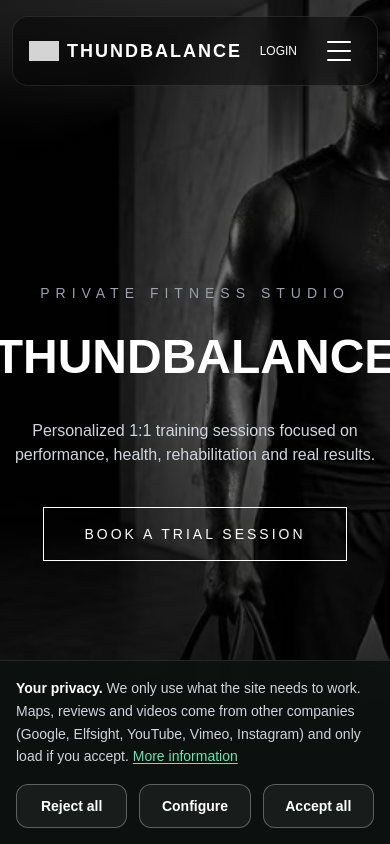
Scenario: mobile menu › the header keeps Login and the hamburger; Register moves into the open menu
This screenshot has width=390, height=844.
Click the button named "open menu" at (339, 51), box [317, 29, 361, 73]
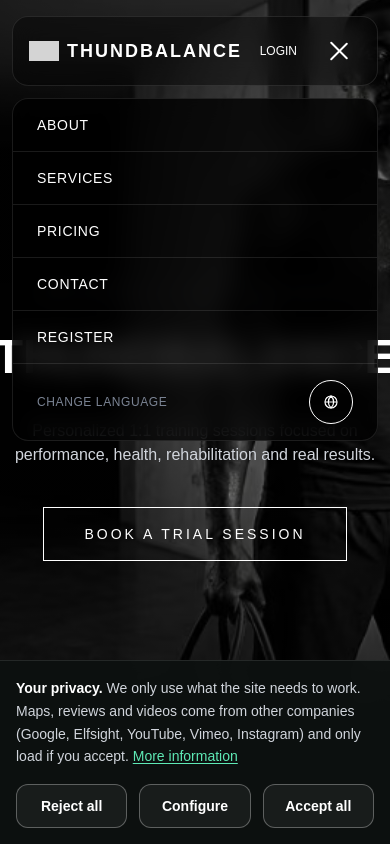
Check: the navigation bar is shown, box [0, 0, 389, 441]
Check: the button named "open menu" is expanded, box [317, 29, 361, 73]
